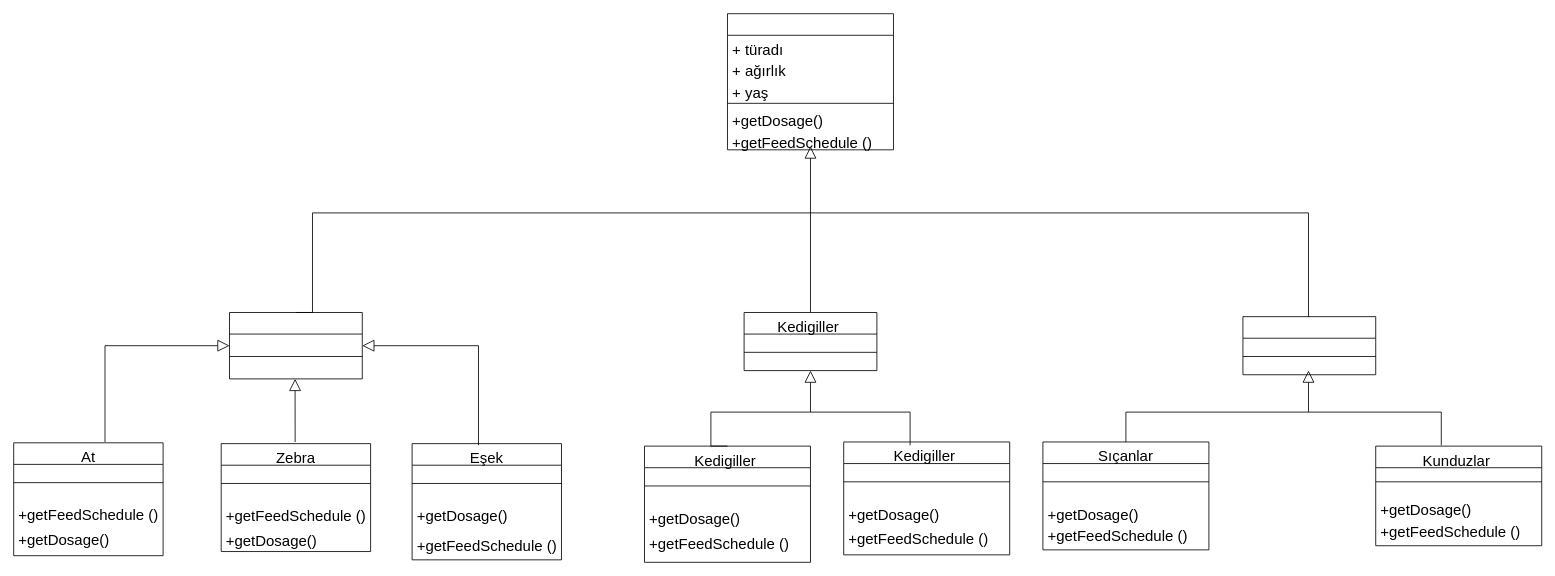
Image size: 1555x576. Some labels were removed from this diagram. The shapes that lost their labels are listed below. From the top down, each one's box as (x1, y1, x2, y2) in pixels, then its label:
(727, 13, 893, 150): Hayvanlar
(229, 312, 362, 379): Atgiller
(1242, 316, 1376, 375): Kemirgenler
